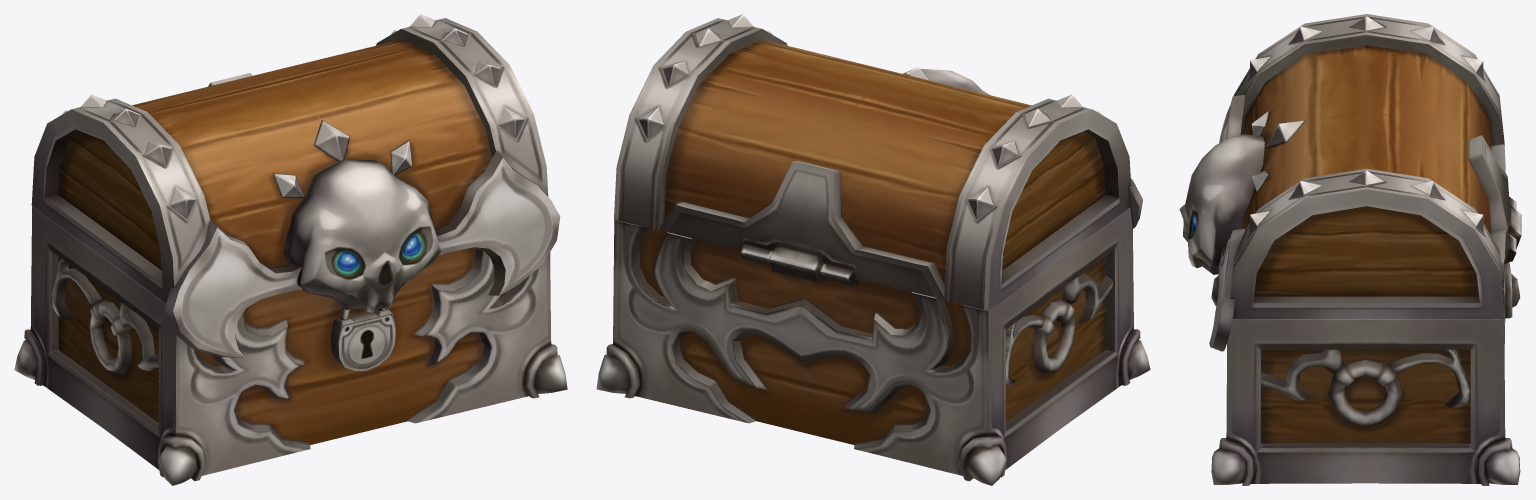
The model's file is chest_2.FBX.
3 views of the same model, side by side, from view 1: azimuth 30°, elevation 25°; view 2: azimuth 150°, elevation 25°; view 3: azimuth 270°, elevation 25° (orthographic). The views are drawn at different scales.
Parts seen in each view (by area): view 1: chest_2_1, chest_2_2, chest_2_3; view 2: chest_2_1, chest_2_2; view 3: chest_2_1, chest_2_2.
Boxes of the visible parts, <box> form: chest_2_1: <box>31,14,560,357</box>; chest_2_2: <box>14,206,567,485</box>; chest_2_3: <box>330,307,395,370</box>; chest_2_1: <box>614,14,1142,310</box>; chest_2_2: <box>596,207,1150,485</box>; chest_2_1: <box>1179,14,1521,351</box>; chest_2_2: <box>1211,262,1520,485</box>.
Size of the model in its own units: 194 by 146 by 150.
1 material, 1 textured.
